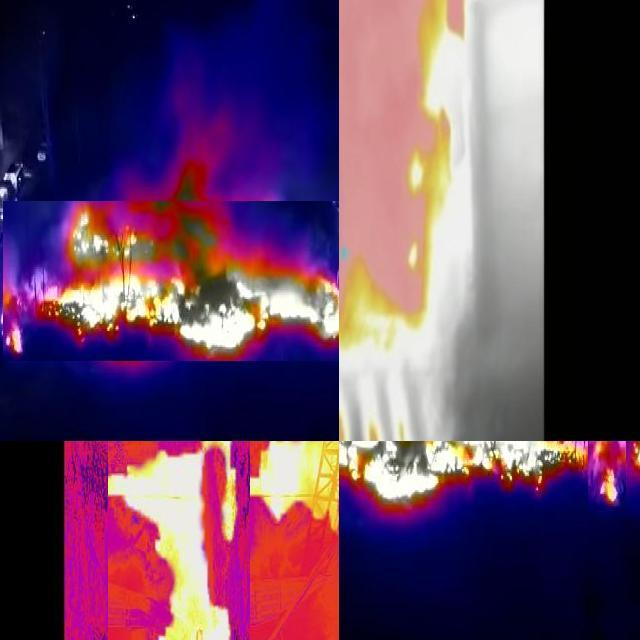fire: (3, 201, 340, 361), (340, 1, 471, 338), (107, 442, 249, 640), (340, 442, 585, 506), (252, 442, 340, 584), (588, 442, 626, 511)
